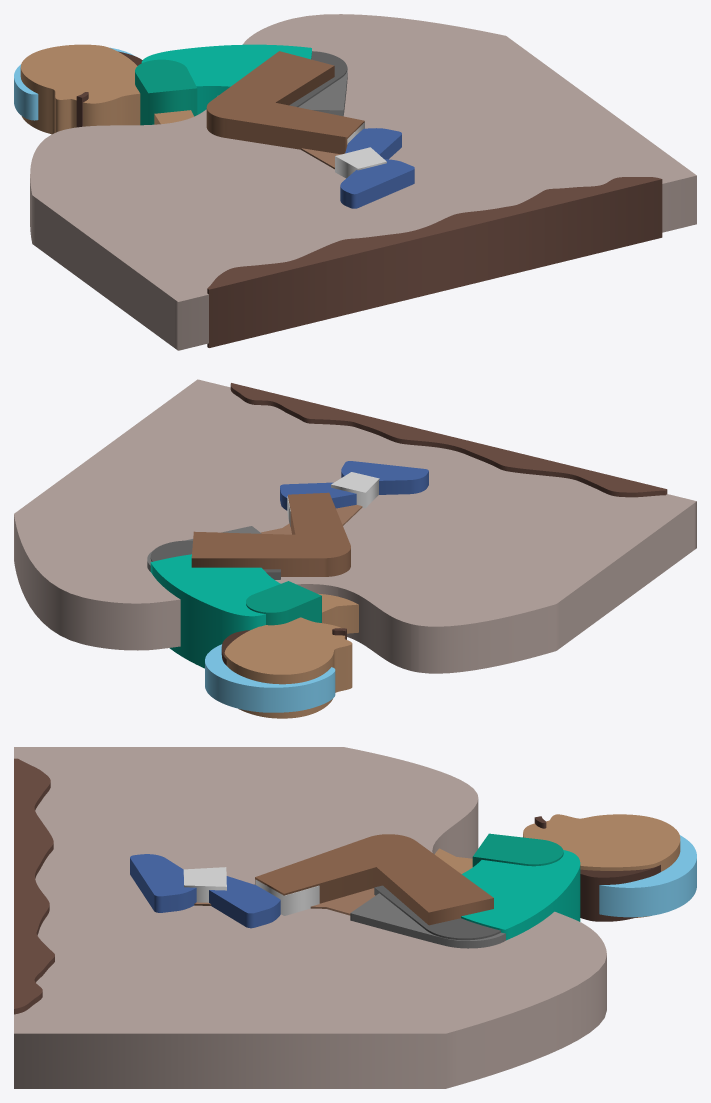
The model's file is emoji_u1f6b5_1f3fd_200d_2642.glb.
3 renders of one model, top to bottom at view 1: azimuth 30°, elevation 25°; view 2: azimuth 150°, elevation 25°; view 3: azimuth 270°, elevation 25°, orthographic. The views are drawn at different scales.
Visible parts, largest first — view 1: emoji_u1f6b5_1f3fd_200d_2642; view 2: emoji_u1f6b5_1f3fd_200d_2642; view 3: emoji_u1f6b5_1f3fd_200d_2642.
Part boxes in pixels (<box>): emoji_u1f6b5_1f3fd_200d_2642: <box>14,14,696,350</box>; emoji_u1f6b5_1f3fd_200d_2642: <box>14,379,696,718</box>; emoji_u1f6b5_1f3fd_200d_2642: <box>14,747,696,1088</box>.
Bounding box in the file's own units: 0.0334 × 0.0054 × 0.0336.
